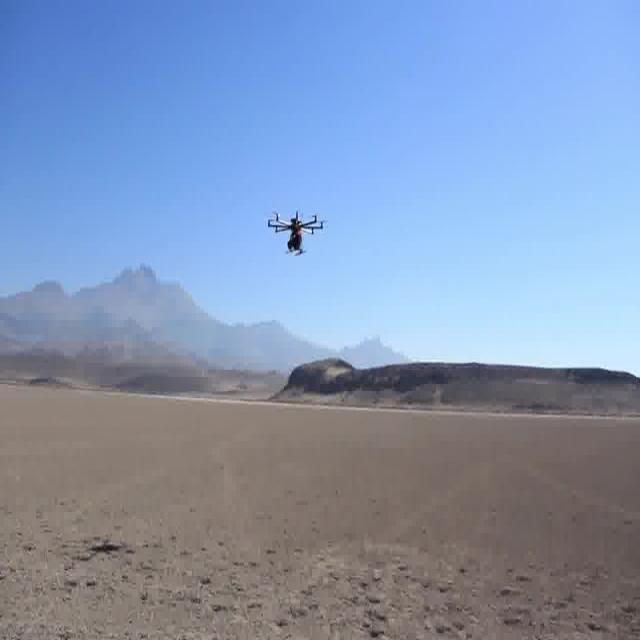drone: (249, 194, 333, 264)
